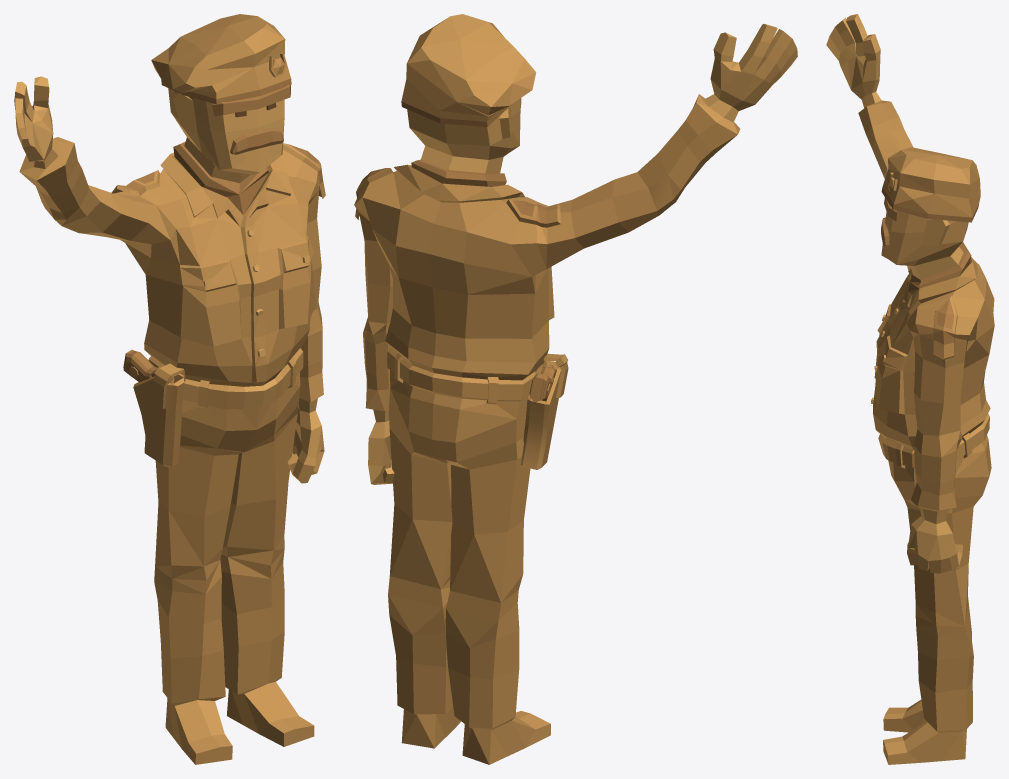
The model's file is SM_Prop_Statue_01.glb.
3 views of the same model, side by side, from view 1: azimuth 30°, elevation 25°; view 2: azimuth 150°, elevation 25°; view 3: azimuth 270°, elevation 25° (orthographic). The views are drawn at different scales.
Visible parts, largest first — view 1: SM_Prop_Statue_01; view 2: SM_Prop_Statue_01; view 3: SM_Prop_Statue_01.
Part boxes in pixels (x1,y1,x2,y2): SM_Prop_Statue_01: [14, 14, 325, 764]; SM_Prop_Statue_01: [354, 14, 797, 764]; SM_Prop_Statue_01: [826, 14, 994, 764].
Size of the model in its own units: 1.79 by 3.41 by 0.8355.
1 material, 1 textured.
